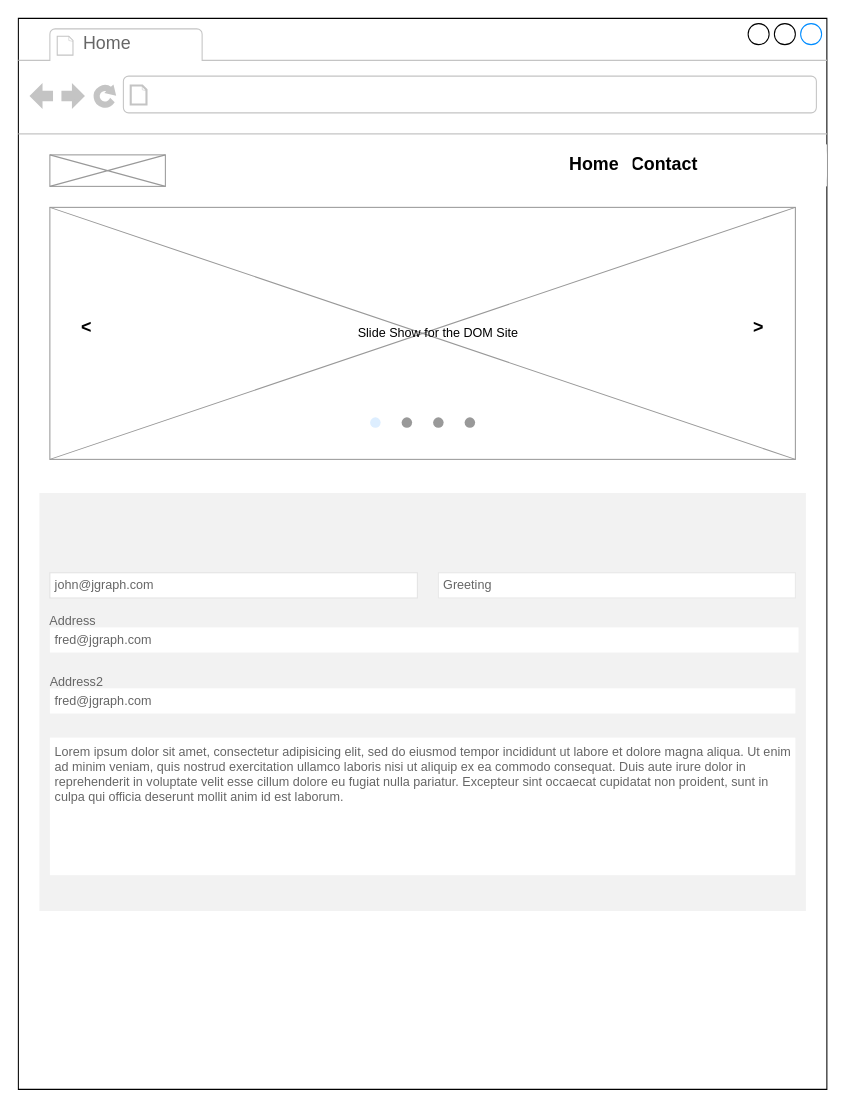
Image size: 845x1108. Some labels were removed from this diagram. Each missing label, with the box of its shape:
Email: (52, 553, 85, 579)
https://shrinivasbb.github.io/ShadowDomSite/: (154, 80, 417, 109)
LOGO: (49, 154, 165, 186)
Password: (432, 553, 496, 579)
